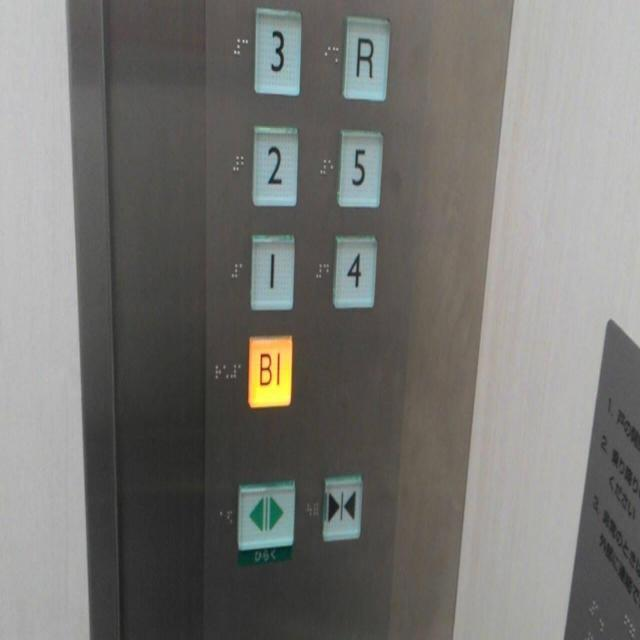1: (248, 229, 296, 313)
2: (249, 121, 300, 209)
3: (252, 1, 302, 101)
4: (331, 230, 379, 313)
5: (335, 124, 385, 210)
B1: (245, 328, 294, 411)
R: (340, 10, 392, 105)
close: (320, 471, 364, 546)
open: (234, 476, 298, 553)
